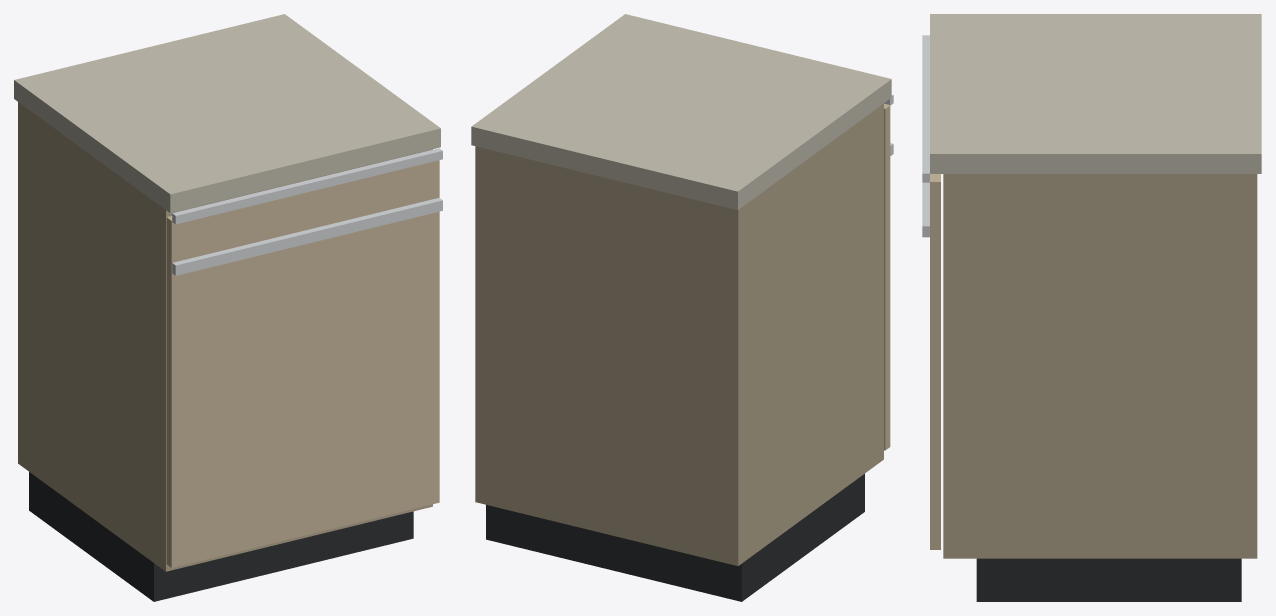
3 views of the same model, side by side, from view 1: azimuth 30°, elevation 25°; view 2: azimuth 150°, elevation 25°; view 3: azimuth 270°, elevation 25° (orthographic). The views are drawn at different scales.
Visible parts, largest first — view 1: Door, Carcass, Worktop, TallDoor, DoorPair, Plinth, DrawerFront, DoorRail, TopRail; view 2: Carcass, Worktop, Plinth, TallDoor, Door; view 3: Carcass, Worktop, Plinth, Door, TopRail, TallDoor.
Boxes of the visible parts, <box> form: Door: <box>166,211,439,567</box>; Carcass: <box>18,102,432,571</box>; Worktop: <box>14,14,440,213</box>; TallDoor: <box>166,160,439,567</box>; DoorPair: <box>171,213,439,567</box>; Plinth: <box>29,472,413,601</box>; DrawerFront: <box>167,161,439,262</box>; DoorRail: <box>172,198,442,275</box>; TopRail: <box>172,148,442,224</box>; Carcass: <box>475,103,883,565</box>; Worktop: <box>471,14,891,209</box>; Plinth: <box>486,473,864,601</box>; TallDoor: <box>884,103,890,449</box>; Door: <box>884,198,890,450</box>; Carcass: <box>943,174,1257,558</box>; Worktop: <box>930,14,1261,173</box>; Plinth: <box>976,558,1241,601</box>; Door: <box>930,234,940,549</box>; TopRail: <box>922,35,929,182</box>; TallDoor: <box>930,174,940,548</box>.
Bounding box in the file's own units: 0.6 × 0.9 × 0.614.
